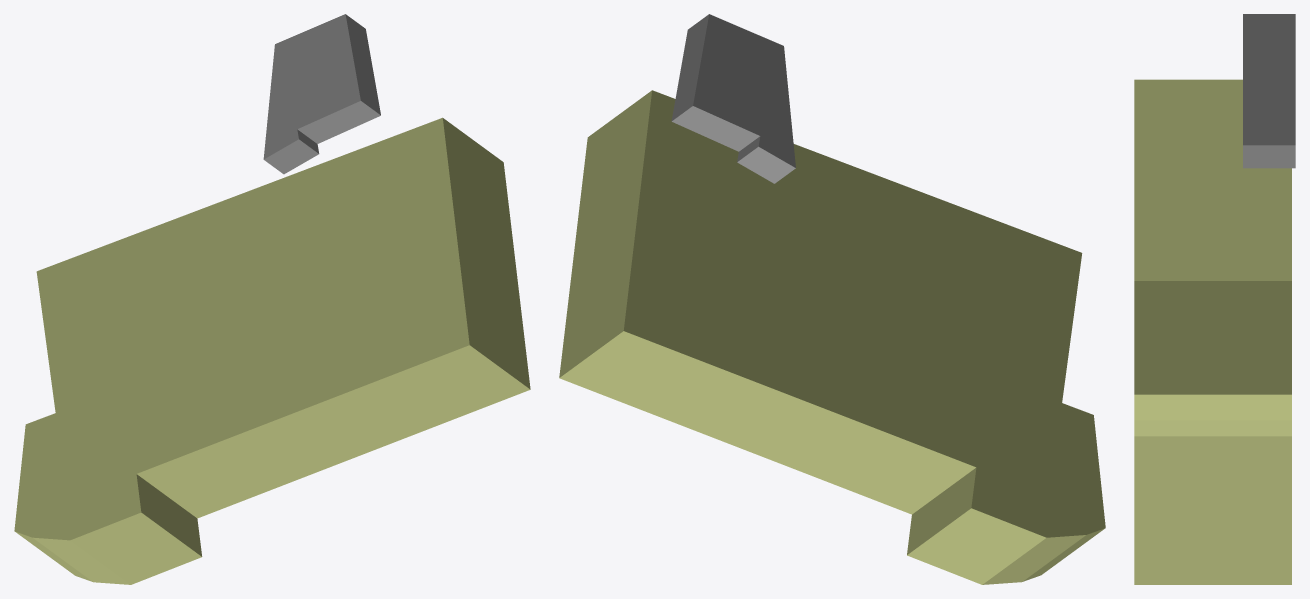
The picture shows the model from 3 angles, left to right: view 1: azimuth 30°, elevation 25°; view 2: azimuth 150°, elevation 25°; view 3: azimuth 270°, elevation 25°; orthographic projection. The views are drawn at different scales.
Visible parts, largest first — view 1: 0_1_2_0_1_3_3_1; view 2: 0_1_2_0_1_3_3_1; view 3: 0_1_2_0_1_3_3_1.
Part boxes in pixels (x1,y1,x2,y2): 0_1_2_0_1_3_3_1: (14,14,530,584); 0_1_2_0_1_3_3_1: (559,14,1105,584); 0_1_2_0_1_3_3_1: (1134,14,1295,584).
Bounding box in the file's own units: 38.83 × 37.32 × 9.2.
